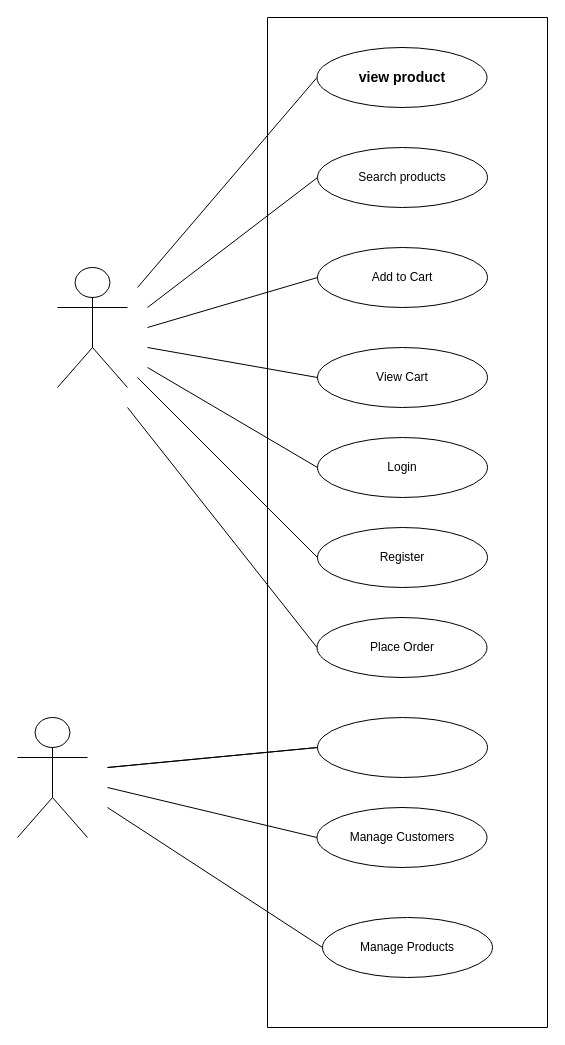
This 565x1045 diagram has some shape labels left out. The box of each missing label's shape, as (x1, y1, x2, y2) in pixels:
Admin: (16, 716, 88, 838)
Manage Orders: (316, 716, 488, 778)
User: (56, 266, 128, 388)
